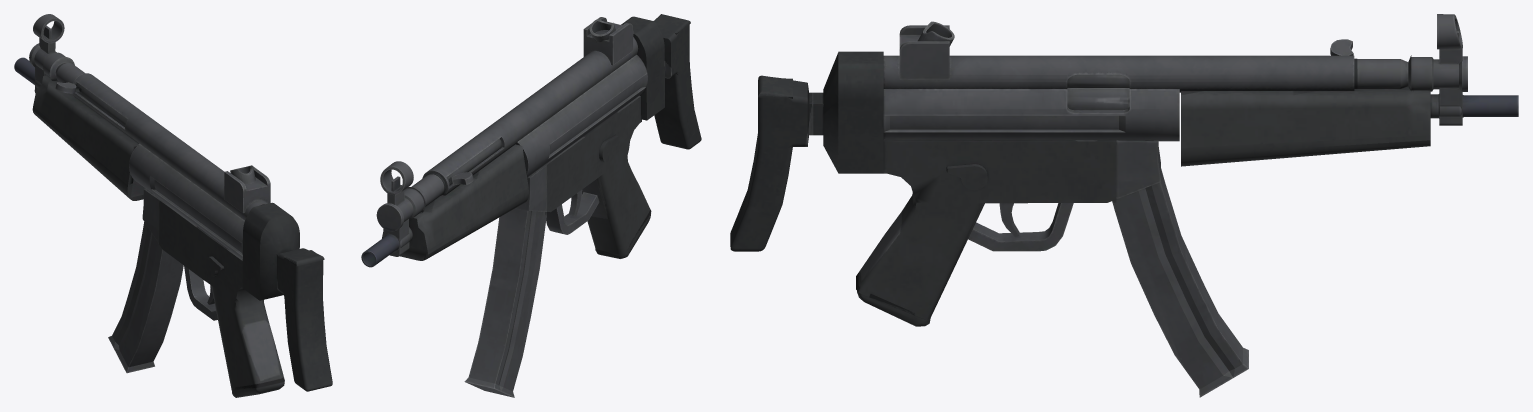
3 renders of one model, left to right at view 1: azimuth 30°, elevation 25°; view 2: azimuth 150°, elevation 25°; view 3: azimuth 270°, elevation 25°, orthographic. The views are drawn at different scales.
Visible parts, largest first — view 1: govde, sarjor; view 2: govde, sarjor; view 3: govde, sarjor.
Boxes of the visible parts, box(x1,y1,x2,y2) form: govde: box(14, 14, 332, 397); sarjor: box(108, 232, 166, 373); govde: box(361, 14, 701, 267); sarjor: box(464, 220, 545, 397); govde: box(730, 14, 1518, 326); sarjor: box(1115, 184, 1248, 397).
Size of the model in its own units: 0.0568 by 0.2937 by 0.56.
1 material, 1 textured.
